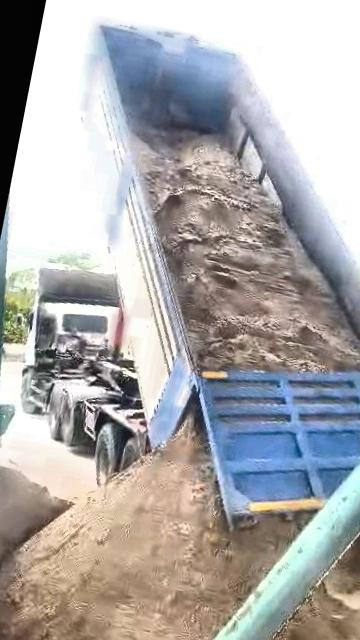sand: (0, 430, 297, 640), (133, 129, 360, 371), (212, 526, 360, 640), (0, 461, 69, 577)
